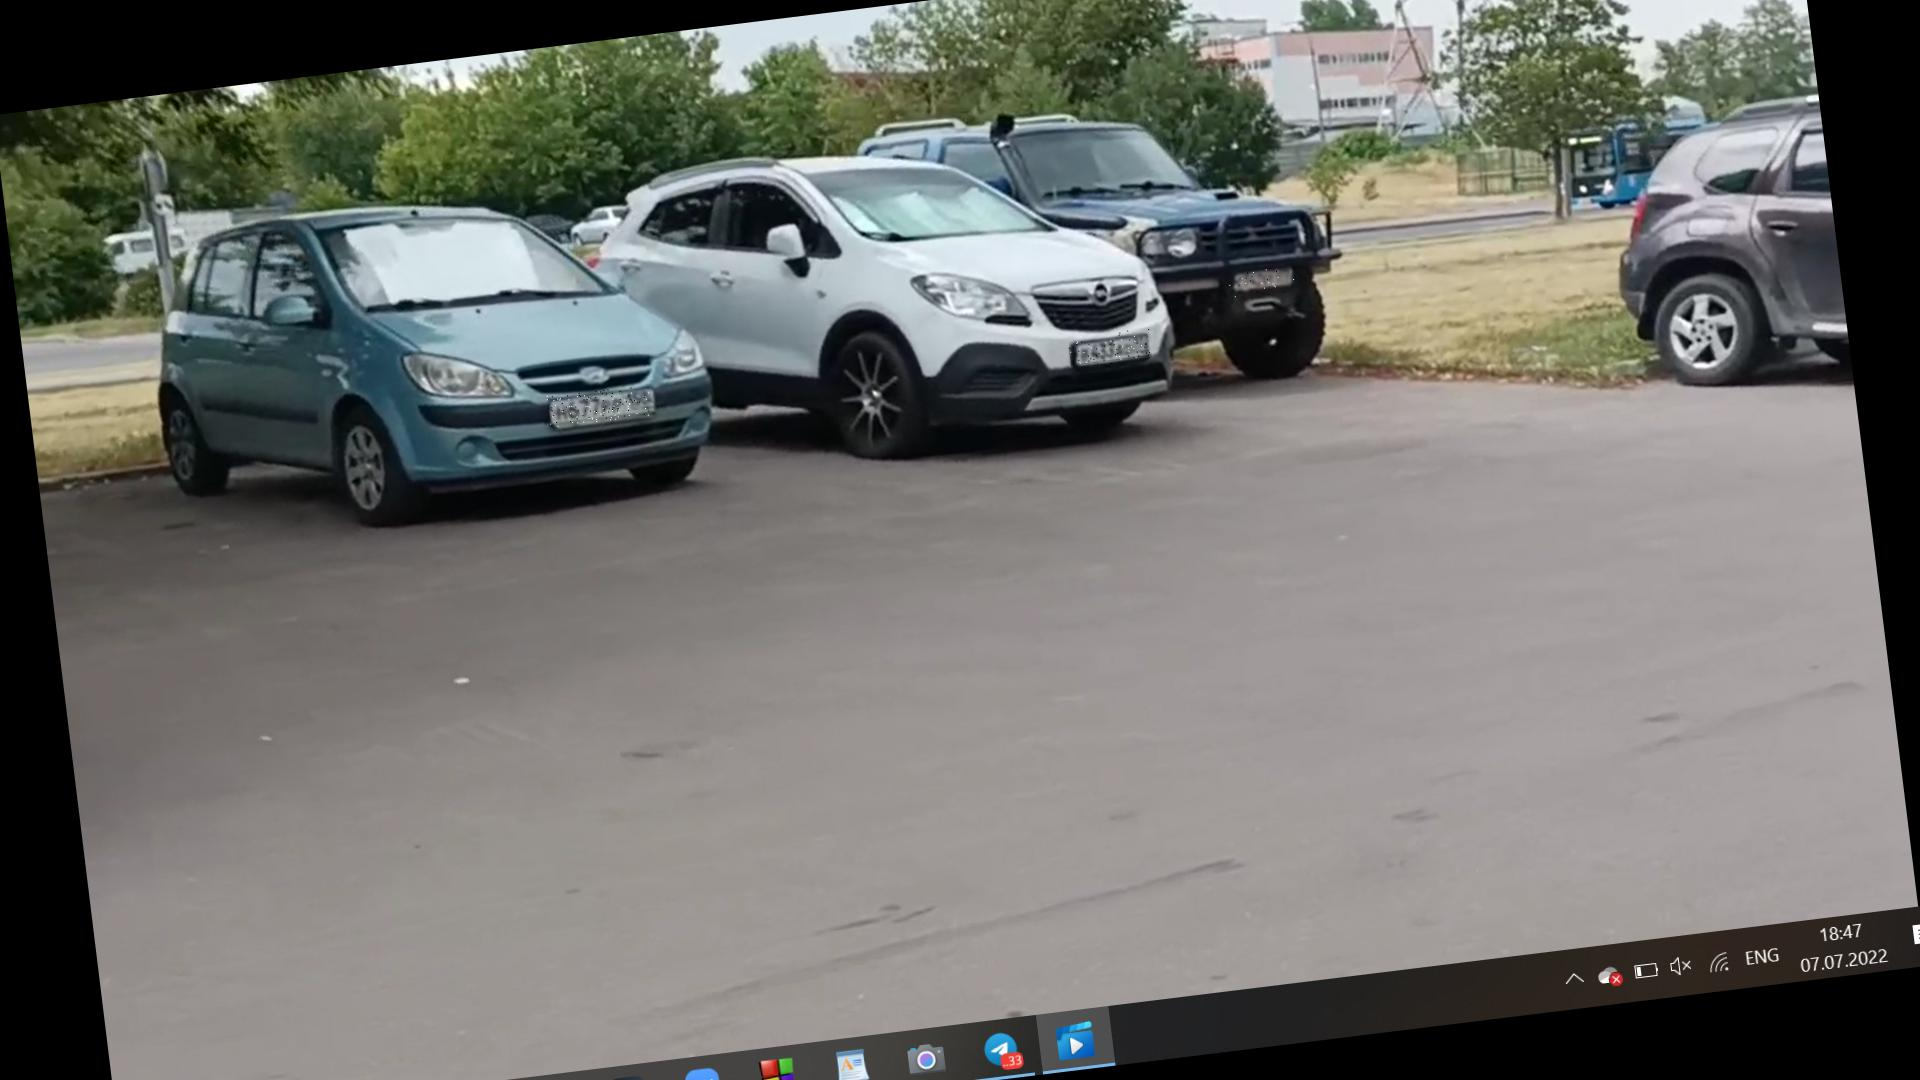plate: (548, 384, 653, 428), (1069, 328, 1154, 367), (1229, 267, 1297, 300)
